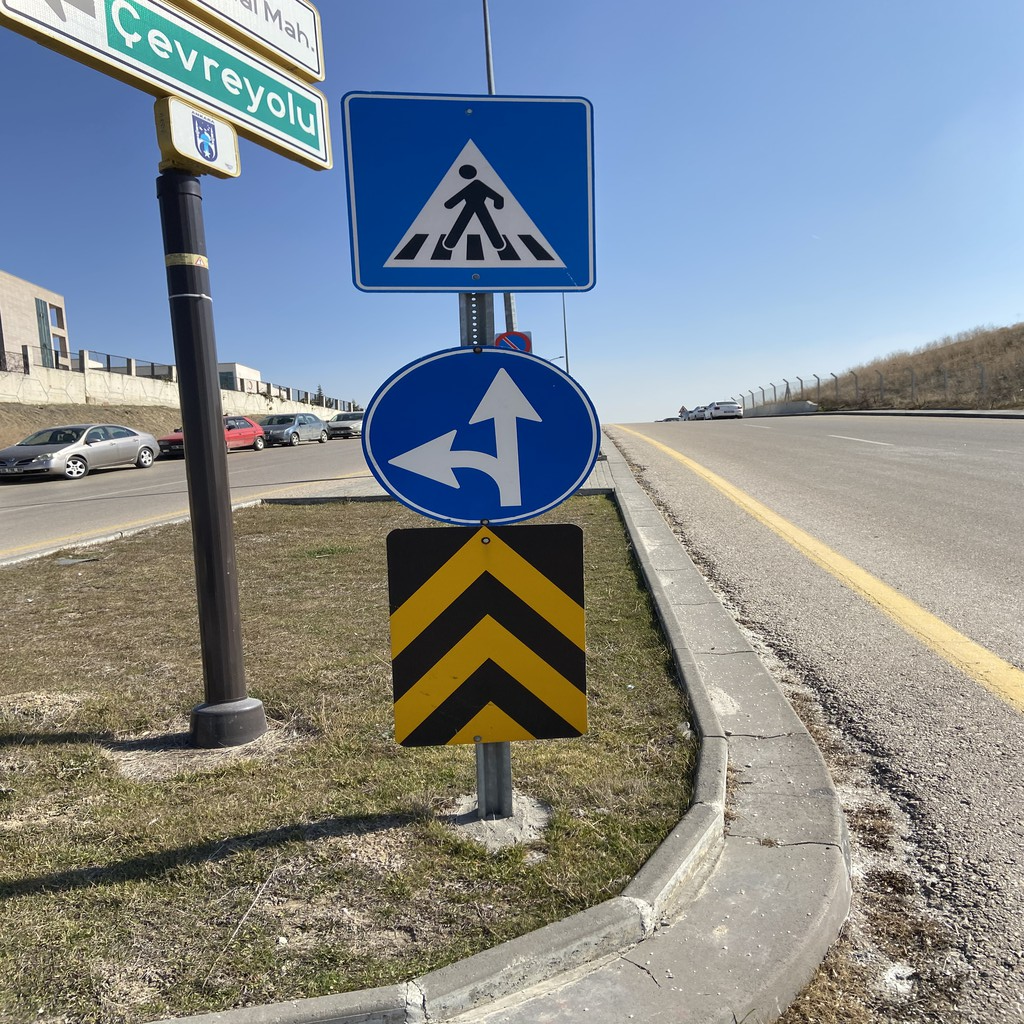Yaya Gecidi: (356, 87, 604, 287)
ileri ve Sola Mecburi Don: (354, 330, 605, 528)
